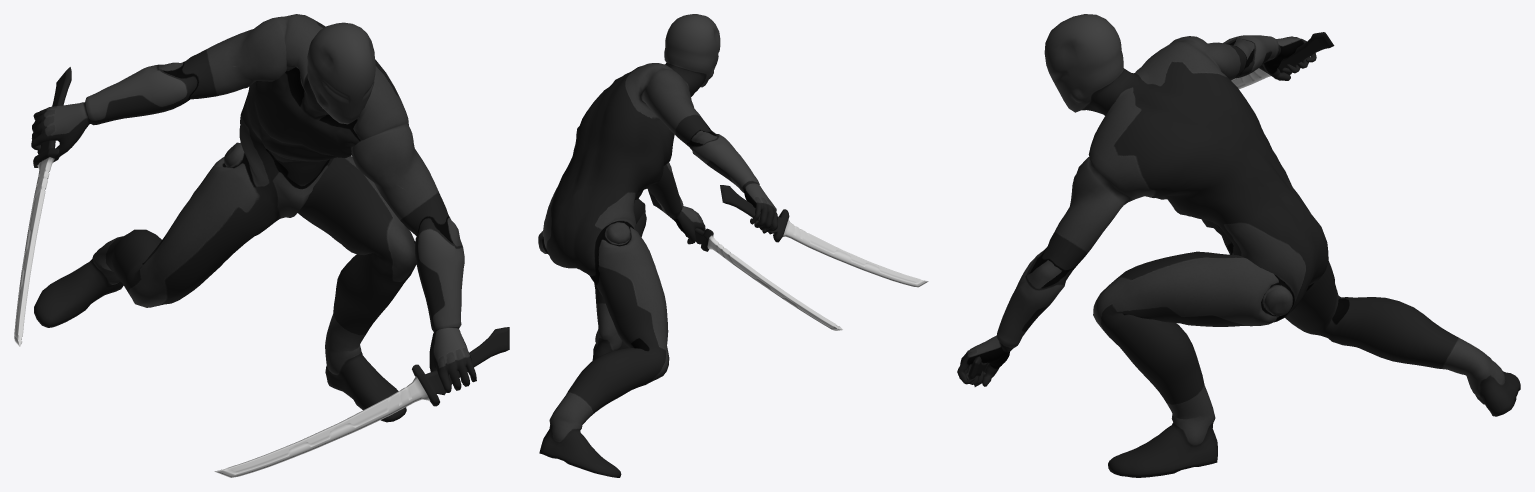
3 renders of one model, left to right at view 1: azimuth 30°, elevation 25°; view 2: azimuth 150°, elevation 25°; view 3: azimuth 270°, elevation 25°, orthographic. The views are drawn at different scales.
Parts seen in each view (by area): view 1: Cyborg_Ninja_Killer, Sword_l, Sword_l001; view 2: Cyborg_Ninja_Killer, Sword_l001, Sword_l; view 3: Cyborg_Ninja_Killer, Sword_l001.
Part boxes in pixels (left/top/right/bottom): Cyborg_Ninja_Killer: left=31, top=14, right=476, bottom=422; Sword_l: left=214, top=327, right=509, bottom=477; Sword_l001: left=14, top=67, right=71, bottom=346; Cyborg_Ninja_Killer: left=538, top=14, right=777, bottom=477; Sword_l001: left=720, top=185, right=928, bottom=287; Sword_l: left=648, top=190, right=842, bottom=330; Cyborg_Ninja_Killer: left=957, top=14, right=1520, bottom=477; Sword_l001: left=1231, top=32, right=1334, bottom=89.
Bounding box in the file's own units: 130 × 124 × 149.
2 materials, 2 textured.
